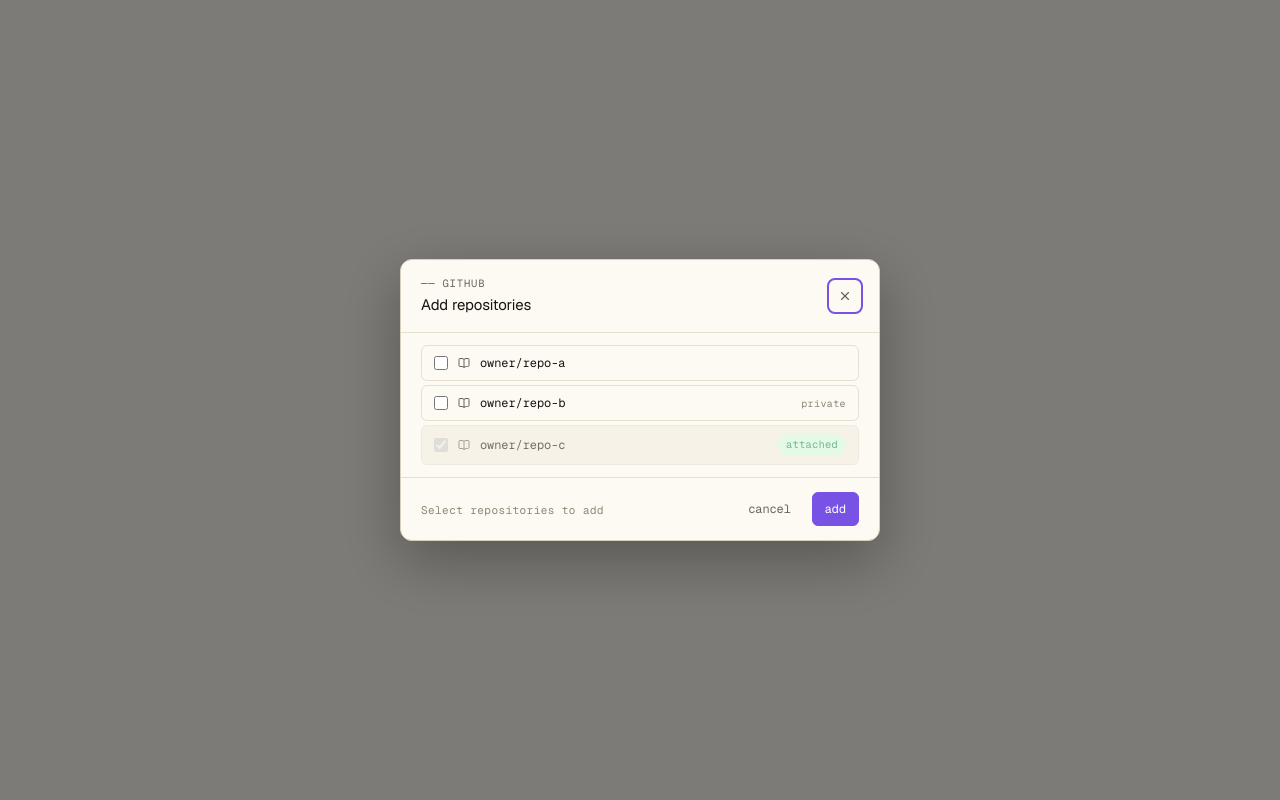
it: DiscoverReposModal › selecting a repo updates the count on the Add button
Click the checkbox named "Select owner/repo-a" at (441, 363), box [434,356,448,370]
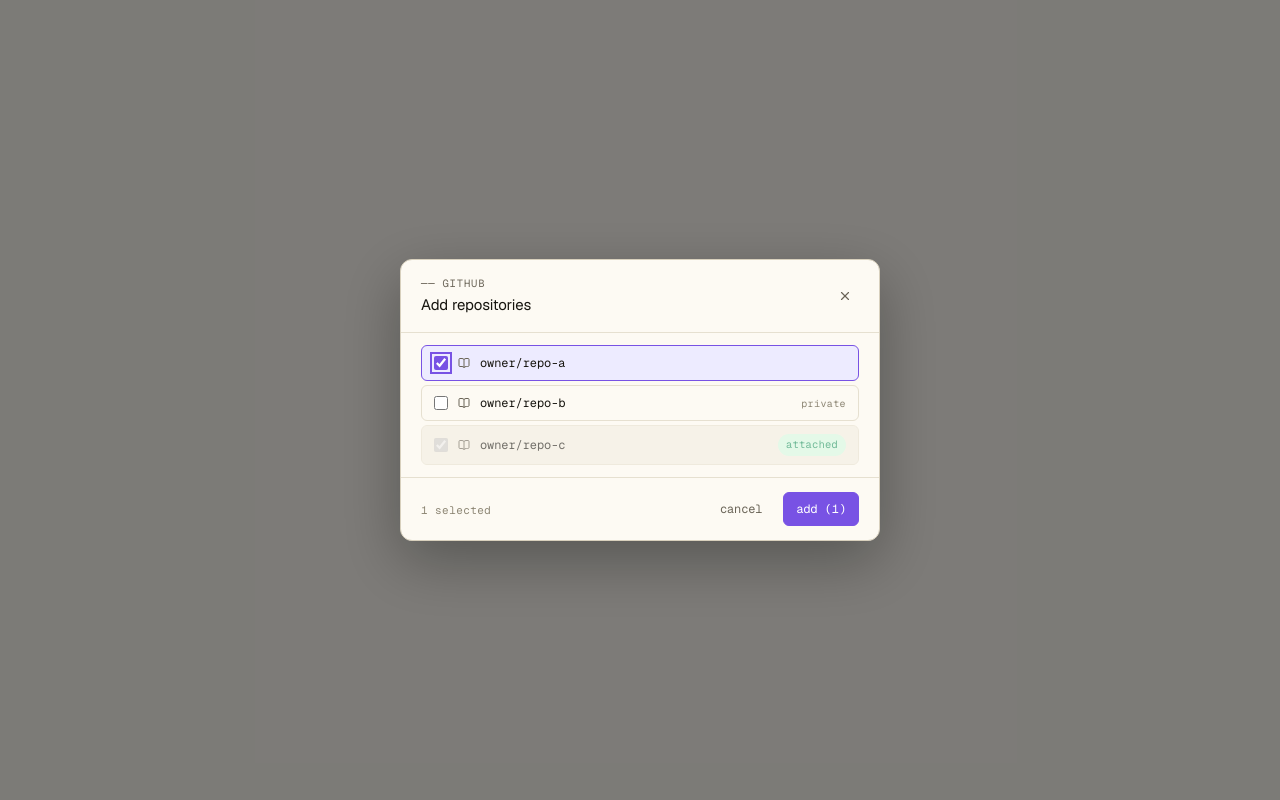
expect the button "add (1)" is shown: met, box [783,492,859,526]
